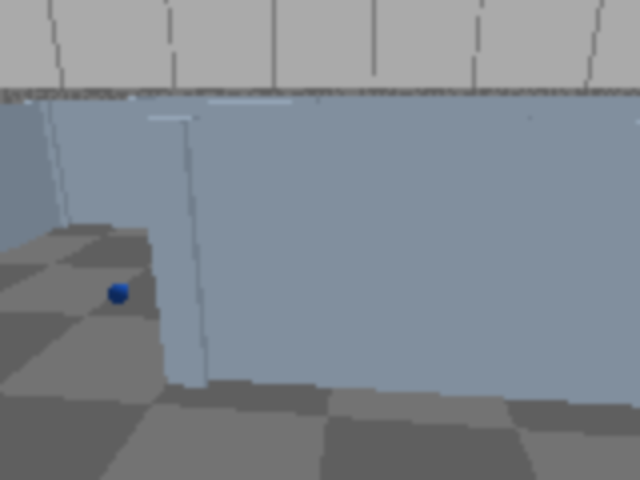puck: (104, 278, 132, 310)
